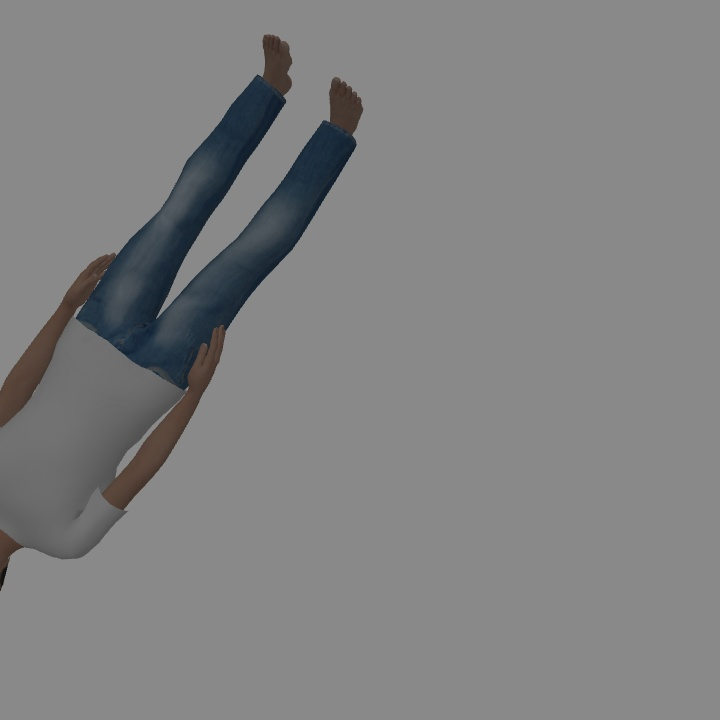victim: (1, 33, 365, 586)
